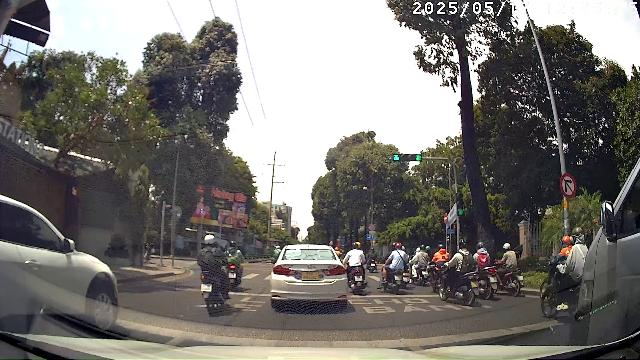123b-cam-re-phai: (559, 172, 577, 199)
